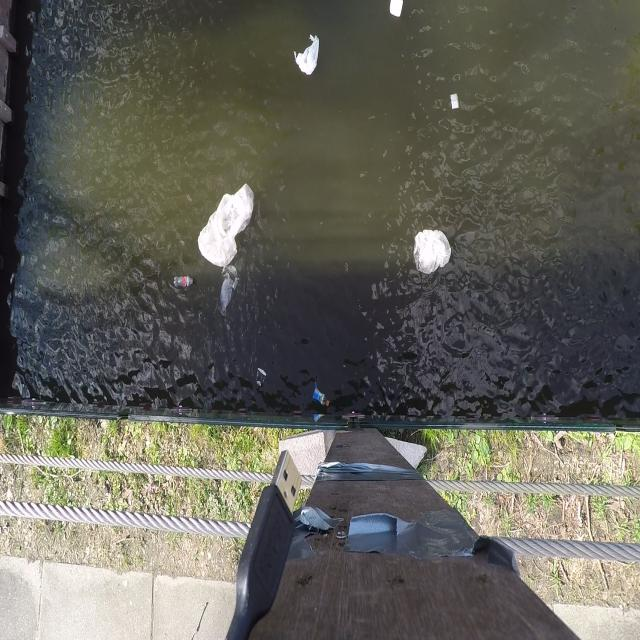Bouteille plastique: (310, 381, 334, 415), (168, 270, 197, 290)
Non plastique: (254, 364, 268, 390)
Sac plastique: (197, 178, 261, 264), (408, 221, 457, 280), (286, 32, 324, 81), (215, 265, 241, 321)
